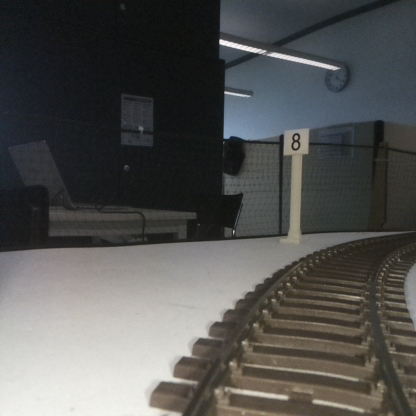white-info-8: (284, 128, 308, 245)
